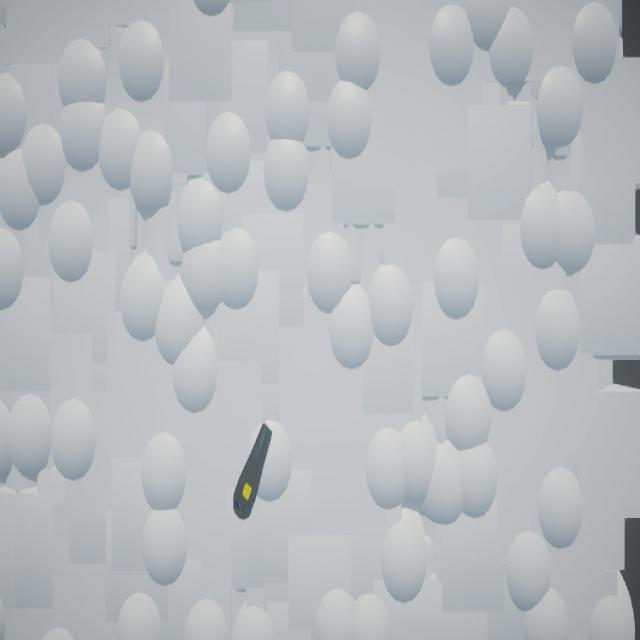handle_knife: (234, 423, 274, 522)
